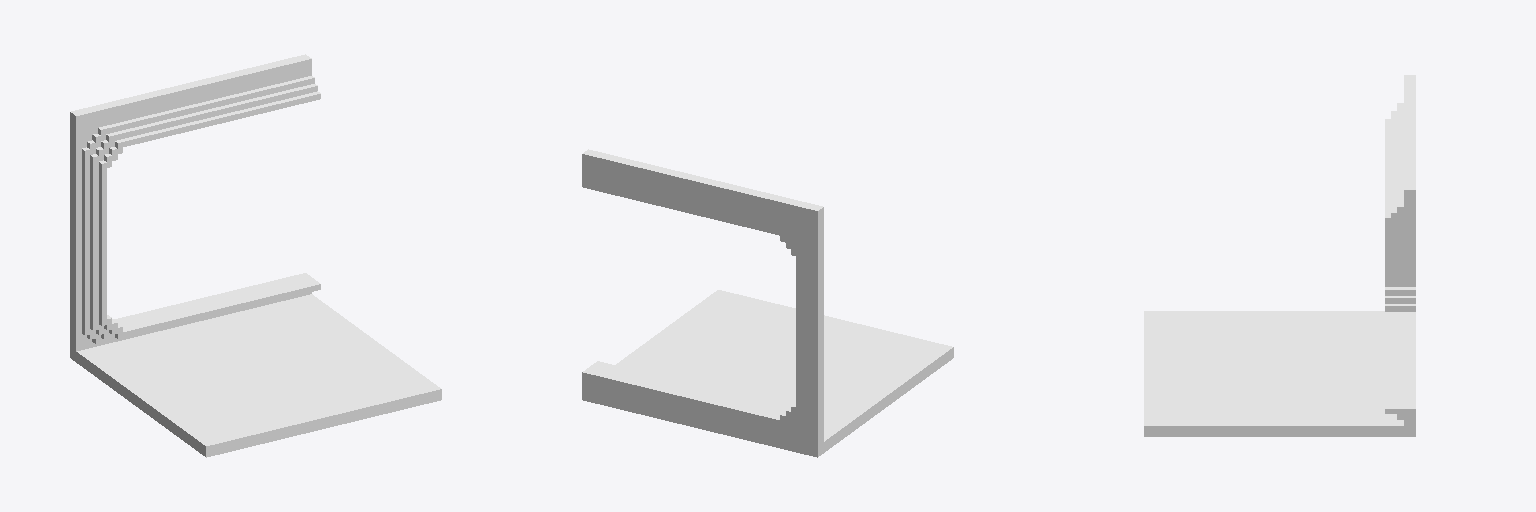
The model's file is mesh_hanger_door_frame_left.obj.
3 views of the same model, side by side, from view 1: azimuth 30°, elevation 25°; view 2: azimuth 150°, elevation 25°; view 3: azimuth 270°, elevation 25° (orthographic).
Parts seen in each view (by area): view 1: object 1; view 2: object 1; view 3: object 1.
Boxes of the visible parts, <box> form: object 1: <box>70,54,441,457</box>; object 1: <box>582,149,953,457</box>; object 1: <box>1144,75,1415,436</box>.
Size of the model in its own units: 4.4 by 4.4 by 4.4.